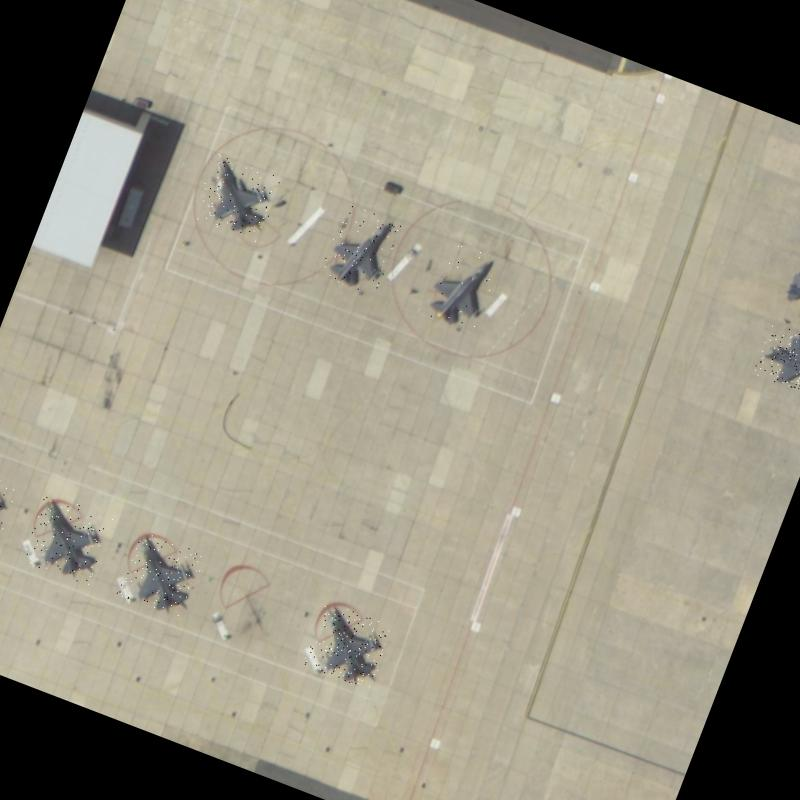A5: (20, 492, 114, 586), (114, 529, 206, 620), (191, 152, 282, 243), (302, 600, 394, 690), (418, 238, 502, 335), (318, 203, 402, 297), (752, 322, 800, 402), (775, 256, 800, 338)
